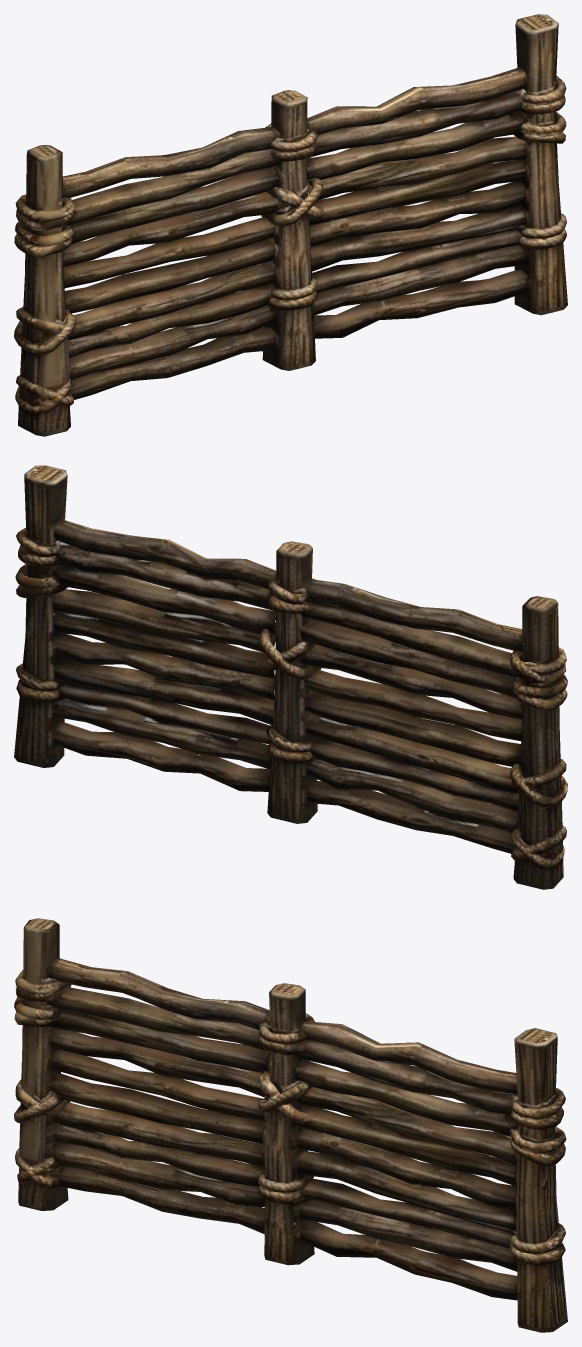
Rendered from act1-a01-4-hurdle-fence.glb.
3 renders of one model, top to bottom at view 1: azimuth 30°, elevation 25°; view 2: azimuth 150°, elevation 25°; view 3: azimuth 330°, elevation 25°, orthographic.
Visible parts, largest first — view 1: act1-a01-4-hurdle-fence; view 2: act1-a01-4-hurdle-fence; view 3: act1-a01-4-hurdle-fence.
Part boxes in pixels (x1,y1,x2,y2): act1-a01-4-hurdle-fence: [14, 14, 567, 436]; act1-a01-4-hurdle-fence: [14, 465, 567, 889]; act1-a01-4-hurdle-fence: [14, 918, 567, 1332].
Size of the model in its own units: 3.2 by 1.6 by 0.3238.
1 material, 1 textured.
